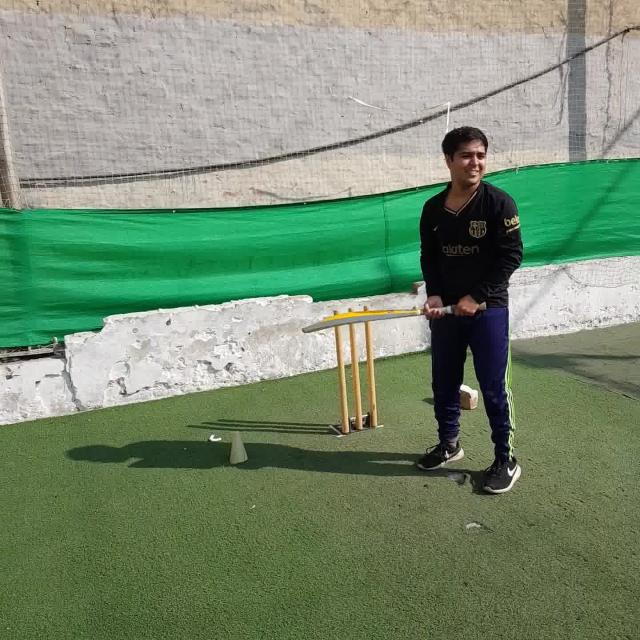bat: (302, 303, 486, 333)
